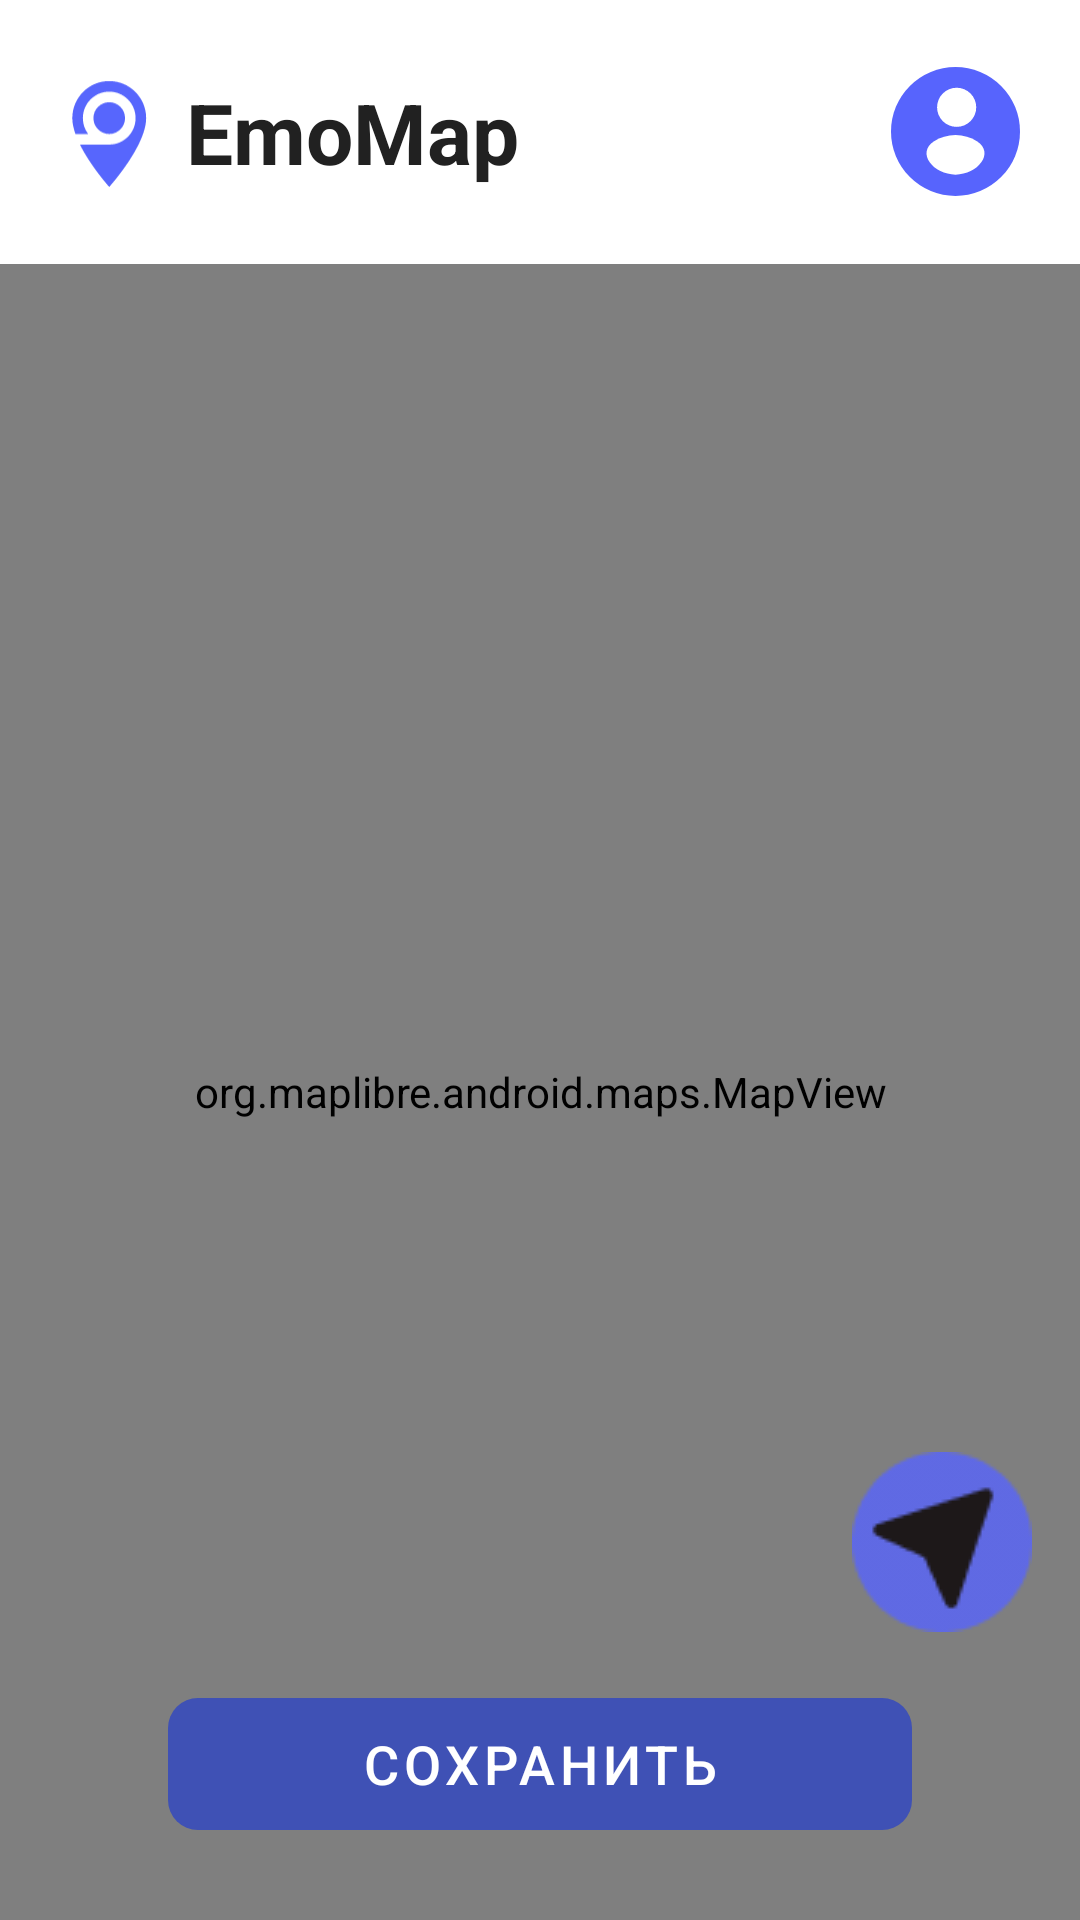

Locate icon controls on the screen. Image size 1080px x 1920px, boxes as [left=x1, top=y1, right=x2, bottom=y2].
current geo: [left=852, top=1452, right=1032, bottom=1632]
Профиль: [left=891, top=67, right=1020, bottom=196]
